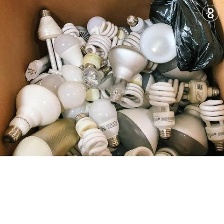light_bulb: (0, 76, 68, 145), (7, 114, 85, 165), (111, 101, 165, 158), (162, 99, 210, 158), (153, 43, 212, 90), (103, 43, 149, 95), (33, 6, 65, 79), (150, 78, 221, 107), (87, 93, 121, 149), (140, 22, 182, 67), (71, 111, 109, 158), (50, 31, 90, 74), (149, 78, 179, 135), (80, 28, 114, 72), (50, 76, 88, 115), (198, 98, 224, 154), (34, 71, 70, 108), (124, 13, 162, 46), (111, 77, 145, 113), (20, 50, 54, 85), (58, 16, 88, 50), (117, 144, 158, 166), (150, 142, 181, 171), (86, 11, 111, 46), (79, 65, 111, 91), (98, 19, 127, 41)
